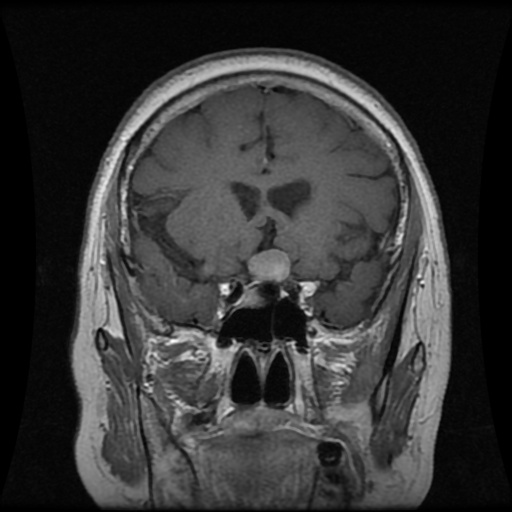pituitary: (246, 249, 293, 282)
